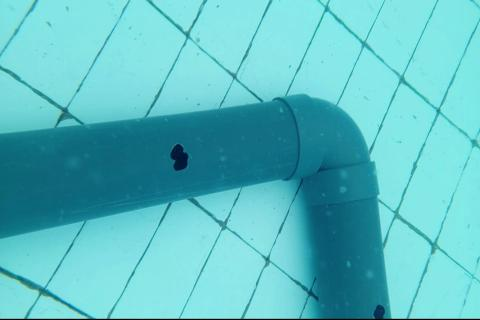kebocoran: (170, 142, 188, 172), (372, 301, 386, 320)
